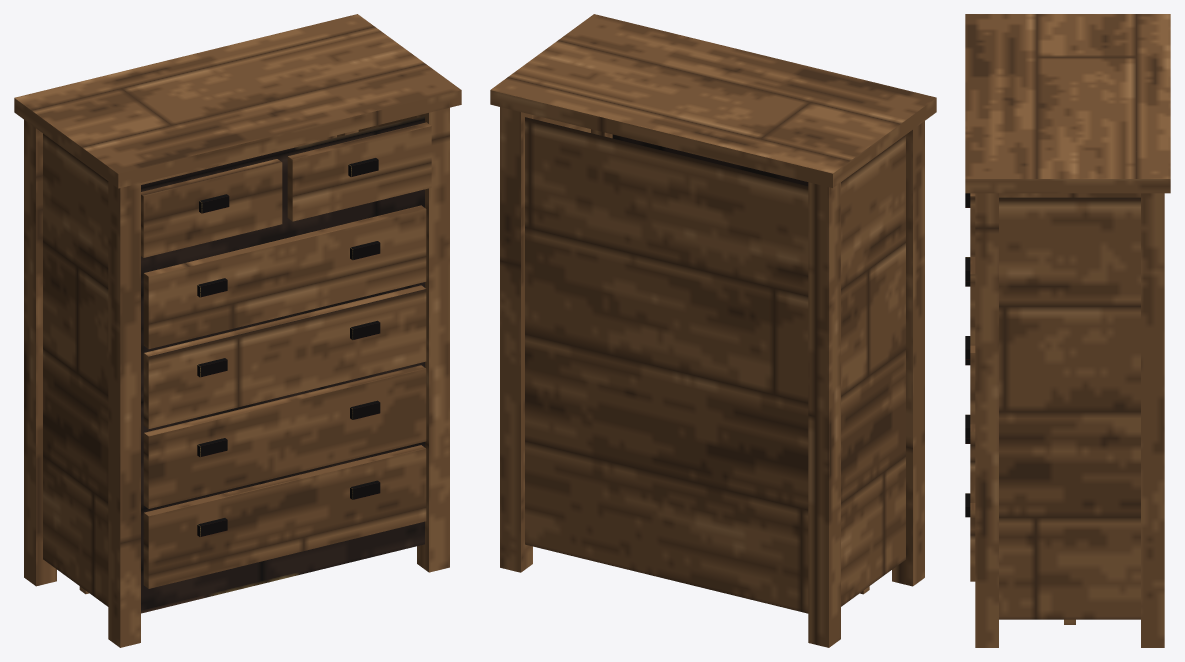
The model's file is Furn_Chest_Tall.fbx.
The picture shows the model from 3 angles, left to right: view 1: azimuth 30°, elevation 25°; view 2: azimuth 150°, elevation 25°; view 3: azimuth 270°, elevation 25°; orthographic projection.
Visible parts, largest first — view 1: Furn_Chest_Tall; view 2: Furn_Chest_Tall; view 3: Furn_Chest_Tall.
Boxes of the visible parts, <box> form: Furn_Chest_Tall: <box>14,14,461,647</box>; Furn_Chest_Tall: <box>490,14,936,647</box>; Furn_Chest_Tall: <box>965,14,1170,647</box>.
Bounding box in the file's own units: 0.99 × 1.32 × 0.5205.
